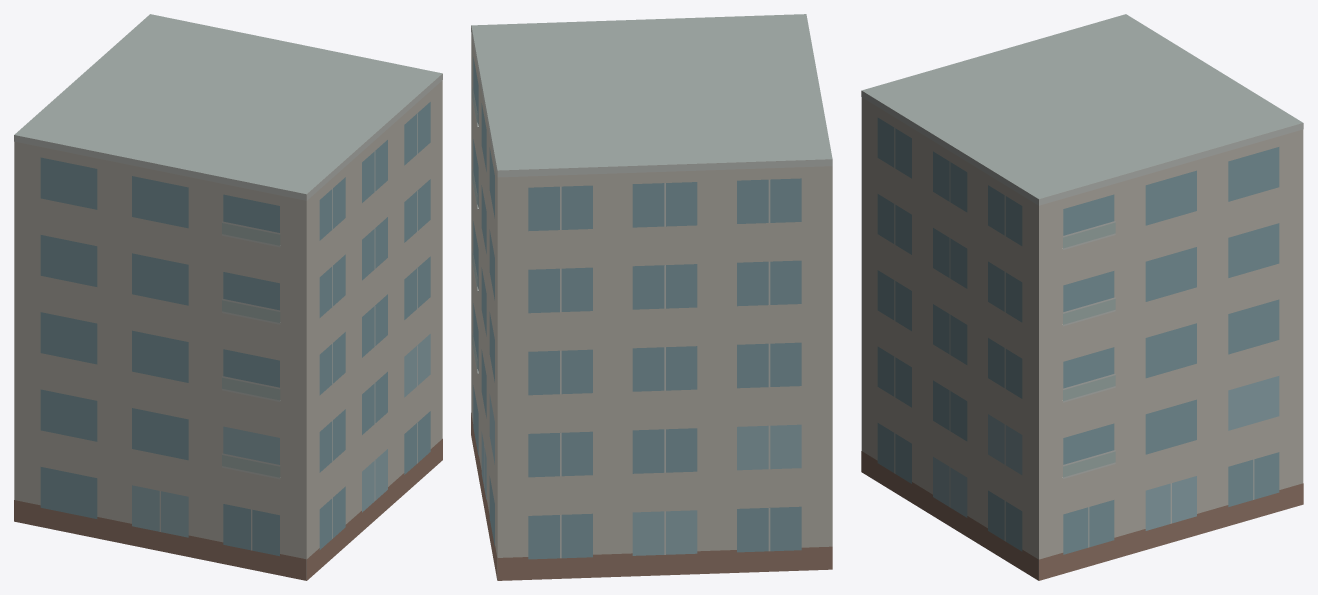
File: survey-upis-32890087.glb
The picture shows the model from 3 angles, left to right: view 1: azimuth 30°, elevation 25°; view 2: azimuth 150°, elevation 25°; view 3: azimuth 270°, elevation 25°; orthographic projection. The views are drawn at different scales.
Visible parts, largest first — view 1: survey-upis-32890087.tmp; view 2: survey-upis-32890087.tmp; view 3: survey-upis-32890087.tmp.
Boxes of the visible parts, box(x1,y1,x2,y2) form: survey-upis-32890087.tmp: box(14, 14, 442, 580); survey-upis-32890087.tmp: box(471, 14, 832, 580); survey-upis-32890087.tmp: box(861, 14, 1303, 580).
Bounding box in the file's own units: 14.89 × 14.3 × 15.02.
